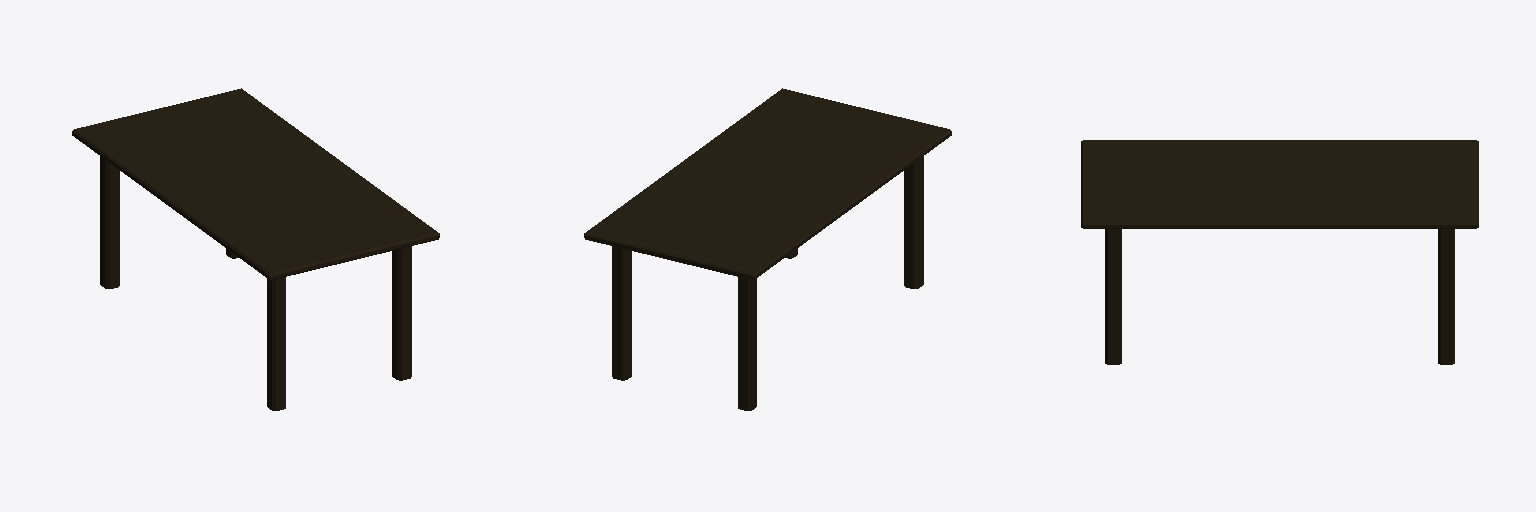
The model's file is Table.obj.
The picture shows the model from 3 angles: view 1: azimuth 30°, elevation 25°; view 2: azimuth 150°, elevation 25°; view 3: azimuth 270°, elevation 25°; orthographic projection.
Parts seen in each view (by area): view 1: Table Top, Table Leg3, Table Leg2, Leg1 Table; view 2: Table Top, Table Leg4, Leg1 Table, Table Leg2; view 3: Table Top, Table Leg3, Table Leg4.
Boxes of the visible parts, x1,y1,x2,y2 form: Table Top: [72, 88, 439, 280]; Table Leg3: [392, 246, 411, 380]; Table Leg2: [100, 156, 119, 288]; Leg1 Table: [267, 277, 285, 410]; Table Top: [584, 88, 951, 280]; Table Leg4: [612, 246, 631, 380]; Leg1 Table: [904, 156, 923, 288]; Table Leg2: [738, 277, 756, 410]; Table Top: [1081, 140, 1478, 228]; Table Leg3: [1105, 229, 1121, 364]; Table Leg4: [1438, 229, 1454, 364].
Size of the model in its own units: 6.3 by 5.27 by 12.65.